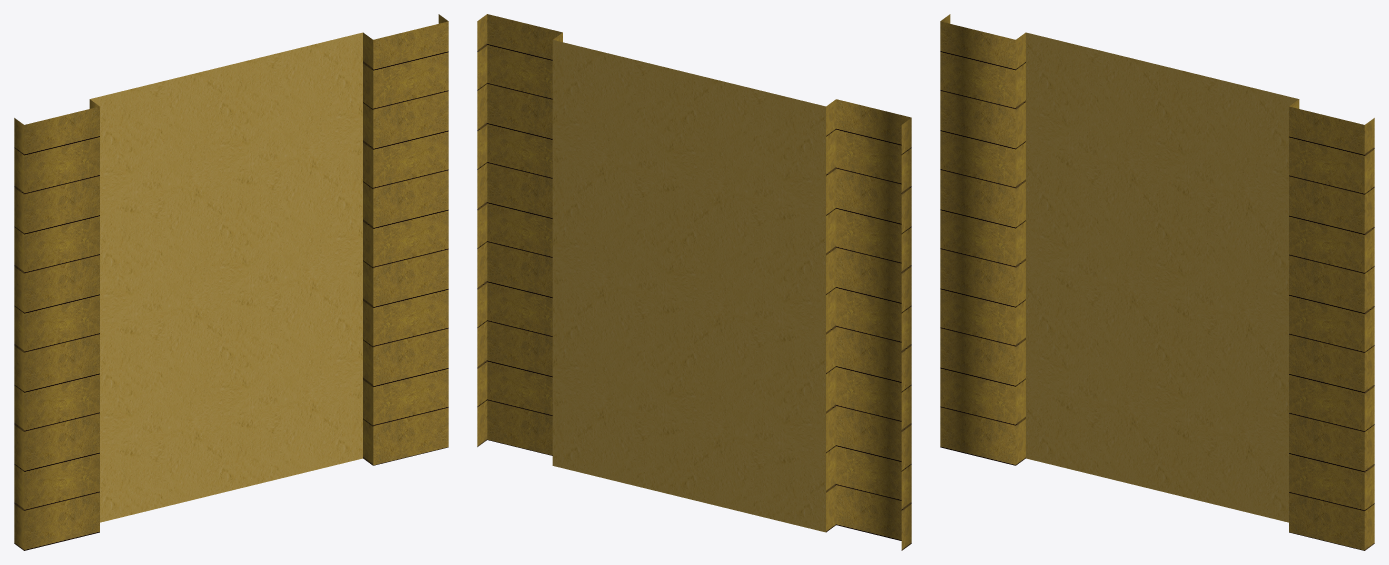
The model's file is sandstoneWallWithTwoColumns.obj.
3 views of the same model, side by side, from view 1: azimuth 30°, elevation 25°; view 2: azimuth 150°, elevation 25°; view 3: azimuth 330°, elevation 25° (orthographic).
Visible parts, largest first — view 1: panel_wall_two_sided; view 2: panel_wall_two_sided; view 3: panel_wall_two_sided.
Boxes of the visible parts, <box> form: panel_wall_two_sided: <box>14,14,448,550</box>; panel_wall_two_sided: <box>477,14,911,550</box>; panel_wall_two_sided: <box>940,14,1374,550</box>.
Bounding box in the file's own units: 730 × 700 × 30.
Materials: 2 (2 with a texture image).
